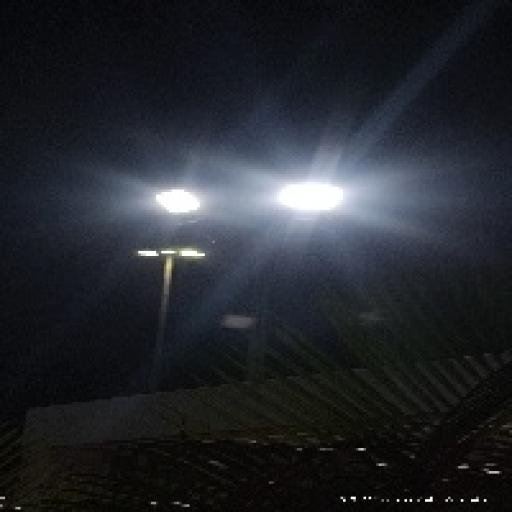Not Working: (216, 304, 261, 339)
Working: (268, 170, 358, 227), (143, 181, 213, 223), (172, 242, 207, 268), (130, 245, 160, 266)
